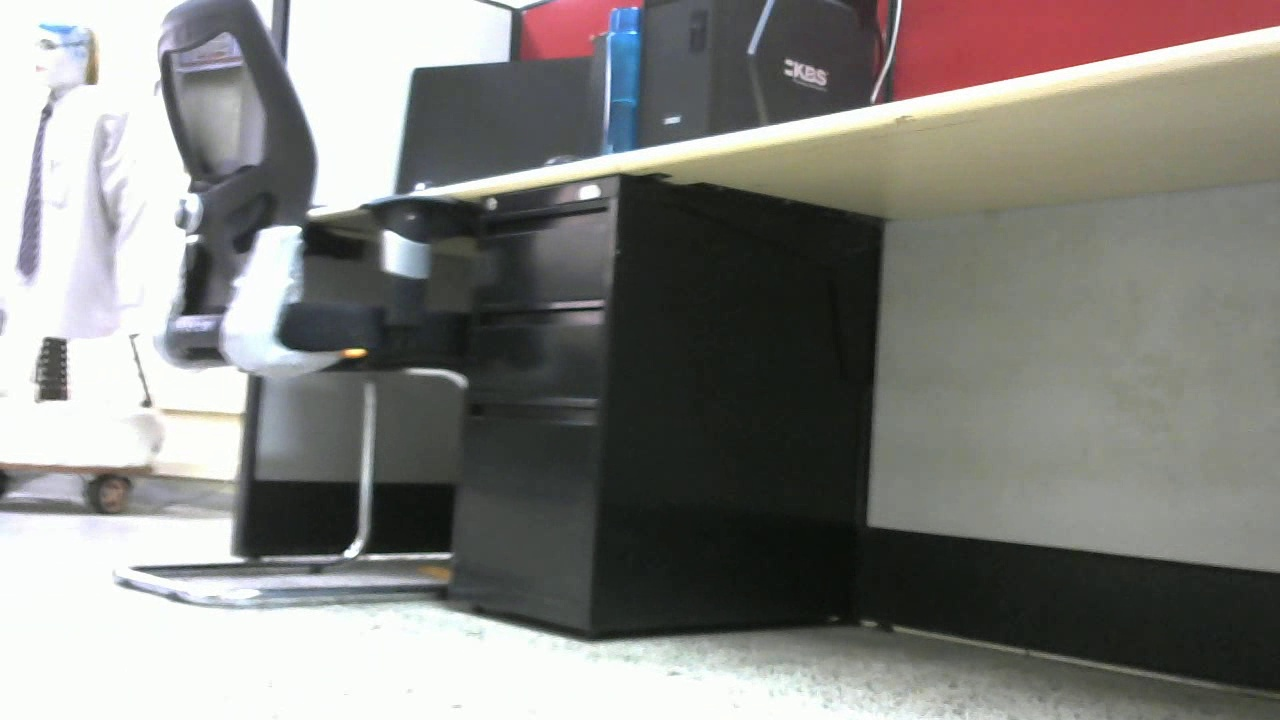chair: (116, 1, 460, 606)
